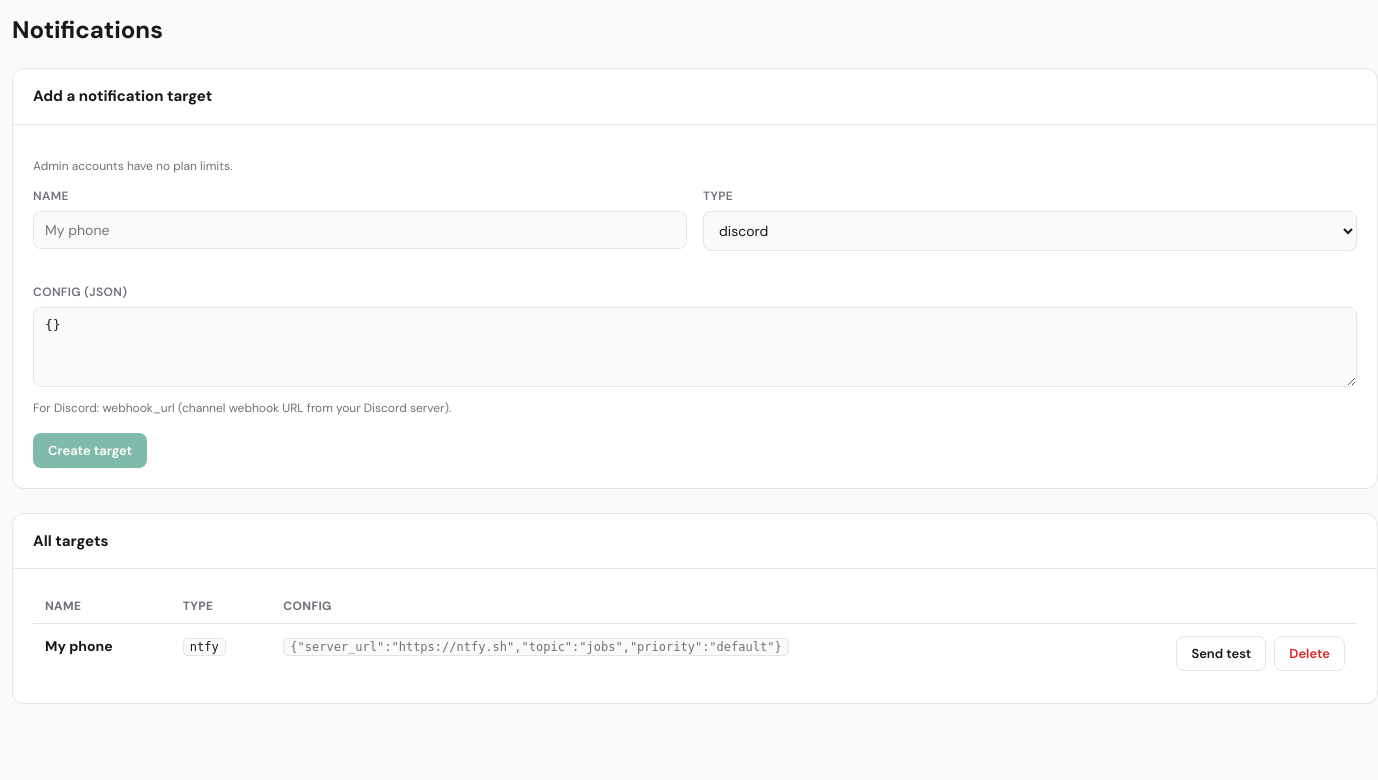
TargetsPage › sends a test notification
Expected: the text "My phone" is shown, left=45, top=637, right=113, bottom=655
Click the button "Send test" at (1221, 654), box left=1176, top=636, right=1266, bottom=671
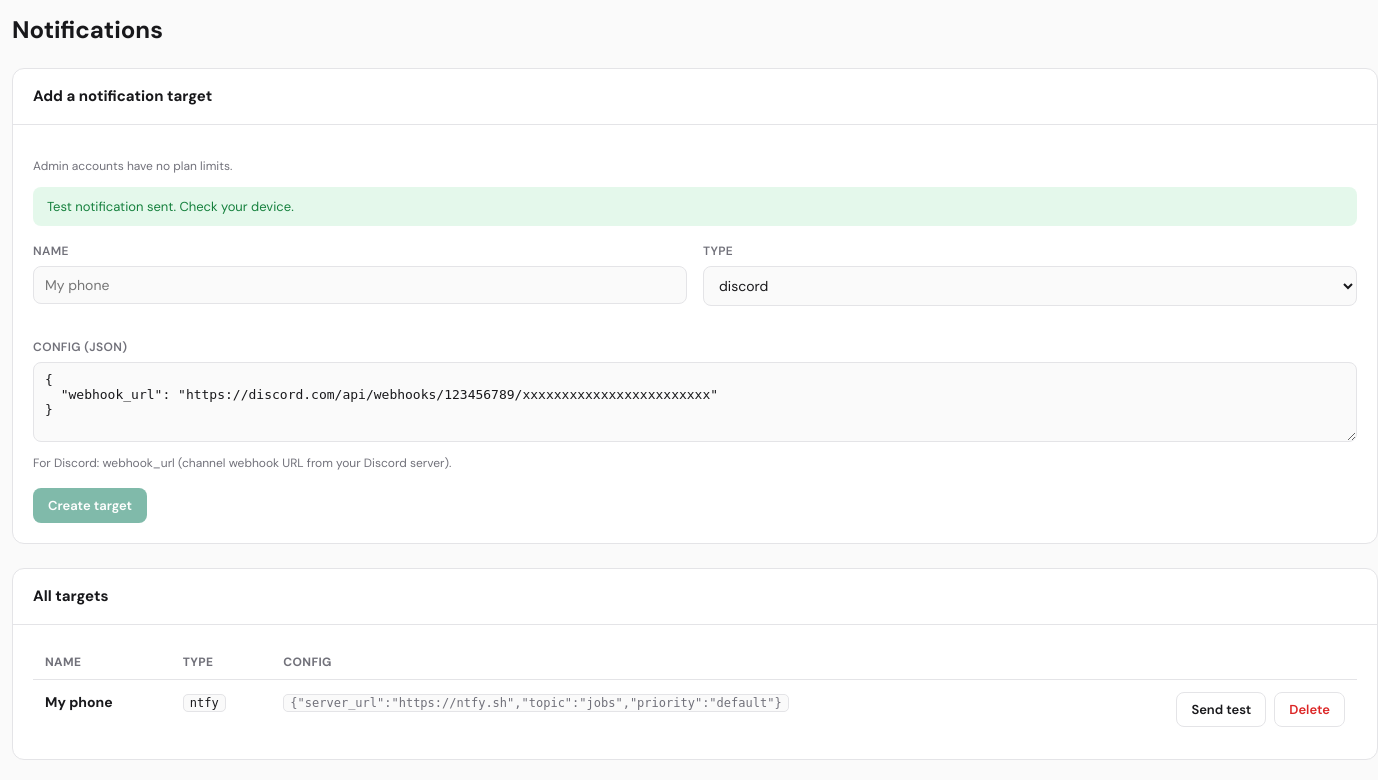
Now the text "Test notification sent. Check your device." is shown, box left=33, top=186, right=1357, bottom=226
